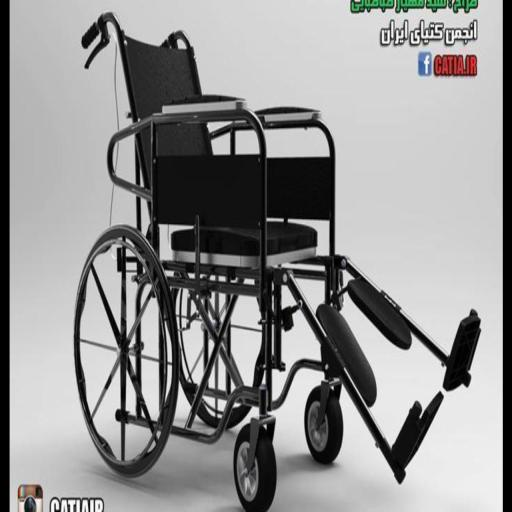cadeira_de_rodas: (62, 6, 484, 512)
